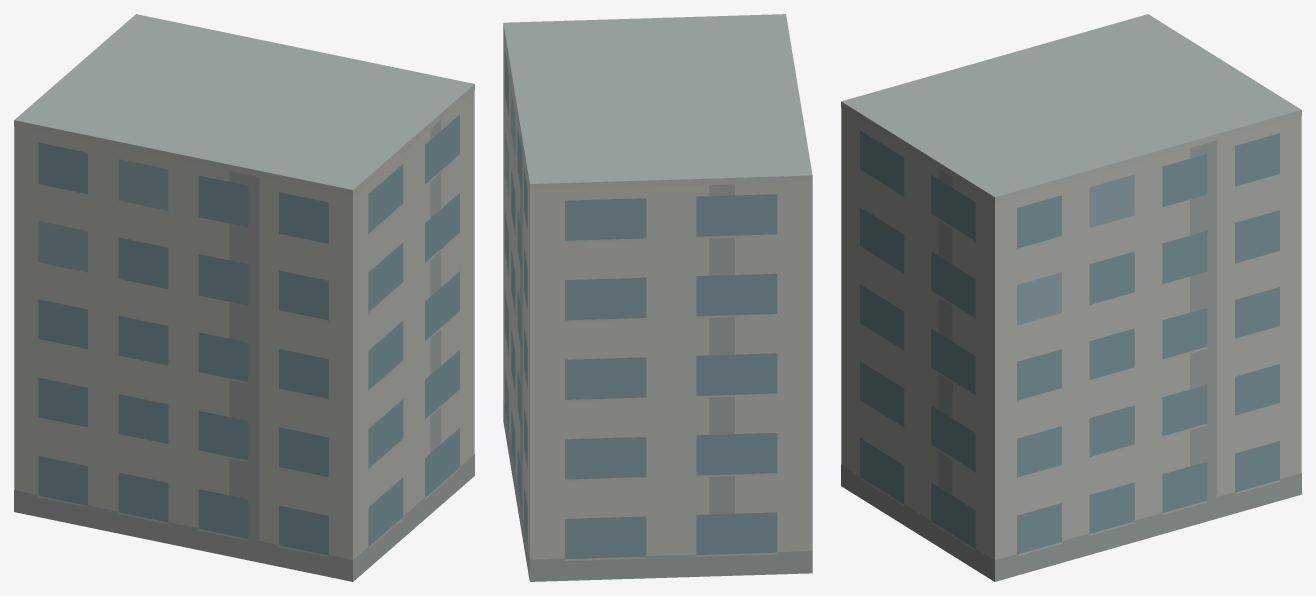
Rendered from survey-upis-32887634.glb.
The picture shows the model from 3 angles, left to right: view 1: azimuth 30°, elevation 25°; view 2: azimuth 150°, elevation 25°; view 3: azimuth 270°, elevation 25°; orthographic projection. The views are drawn at different scales.
Parts seen in each view (by area): view 1: survey-upis-32887634.tmp; view 2: survey-upis-32887634.tmp; view 3: survey-upis-32887634.tmp.
Part boxes in pixels (<box>): survey-upis-32887634.tmp: <box>14,14,474,581</box>; survey-upis-32887634.tmp: <box>503,14,812,581</box>; survey-upis-32887634.tmp: <box>841,14,1301,581</box>.
Bounding box in the file's own units: 15.23 × 14.9 × 16.18.
